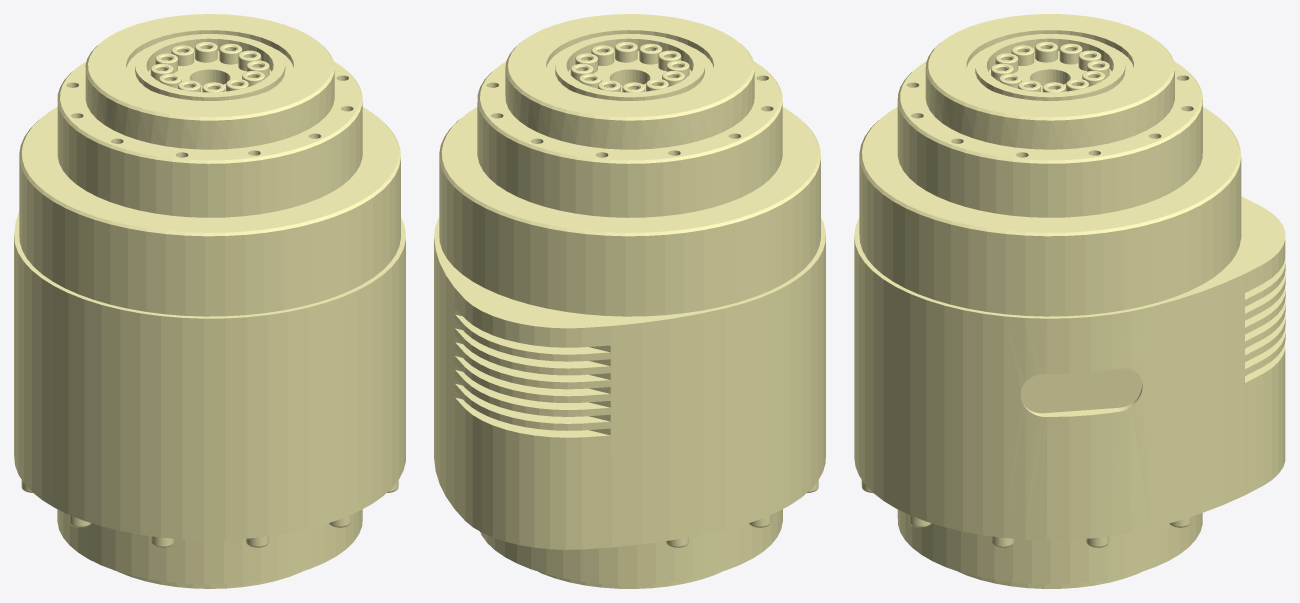
The picture shows the model from 3 angles, left to right: view 1: azimuth 30°, elevation 25°; view 2: azimuth 150°, elevation 25°; view 3: azimuth 270°, elevation 25°; orthographic projection.
Visible parts, largest first — view 1: link7; view 2: link7; view 3: link7.
Boxes of the visible parts, x1,y1,x2,y2 form: link7: (14, 14, 405, 588); link7: (434, 14, 825, 588); link7: (854, 14, 1285, 588).
Size of the model in its own units: 0.077 by 0.0847 by 0.102.
